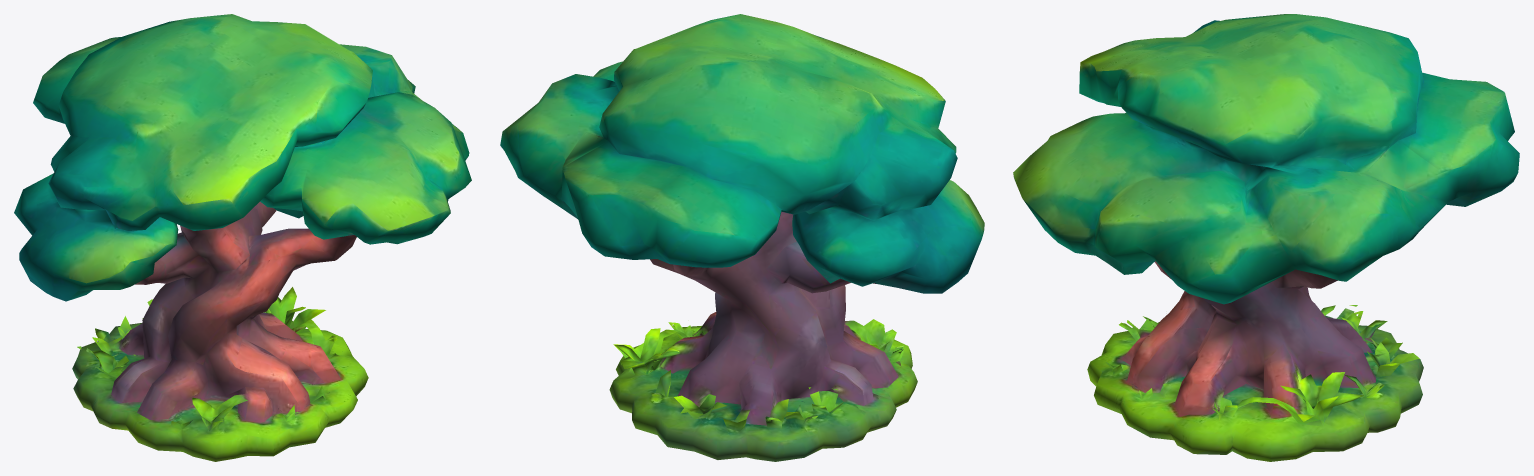
The model's file is alien_tree-BpLhwZRG.glb.
The picture shows the model from 3 angles, left to right: view 1: azimuth 30°, elevation 25°; view 2: azimuth 150°, elevation 25°; view 3: azimuth 270°, elevation 25°; orthographic projection. The views are drawn at different scales.
Visible parts, largest first — view 1: alien_tree; view 2: alien_tree; view 3: alien_tree.
Boxes of the visible parts, box(x1,y1,x2,y2) form: alien_tree: box(14, 14, 471, 461); alien_tree: box(500, 14, 984, 461); alien_tree: box(1013, 14, 1519, 461).
Bounding box in the file's own units: 5.8 × 4.6 × 5.71.
Materials: 1 (1 with a texture image).
